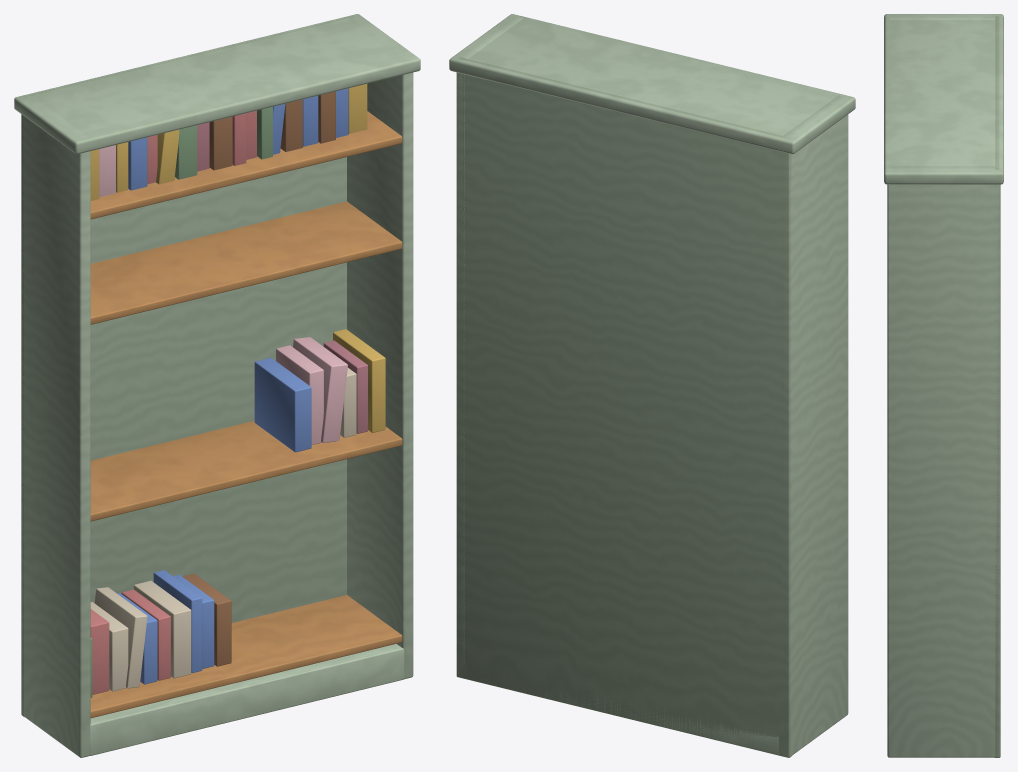
Rendered from scene-bookcase.glb.
The picture shows the model from 3 angles, left to right: view 1: azimuth 30°, elevation 25°; view 2: azimuth 150°, elevation 25°; view 3: azimuth 270°, elevation 25°; orthographic projection. The views are drawn at different scales.
Parts seen in each view (by area): view 1: scene-bookcase; view 2: scene-bookcase; view 3: scene-bookcase.
Part boxes in pixels (box(x1,y1,x2,y2)): scene-bookcase: box(14, 14, 420, 757); scene-bookcase: box(449, 14, 855, 757); scene-bookcase: box(884, 14, 1003, 757).
Size of the model in its own units: 1.14 by 1.95 by 0.36.
Materials: 1 (1 with a texture image).
